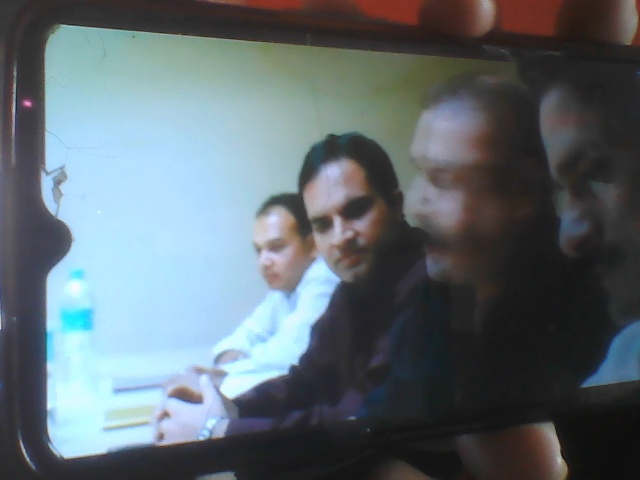fake: (288, 124, 408, 294)
